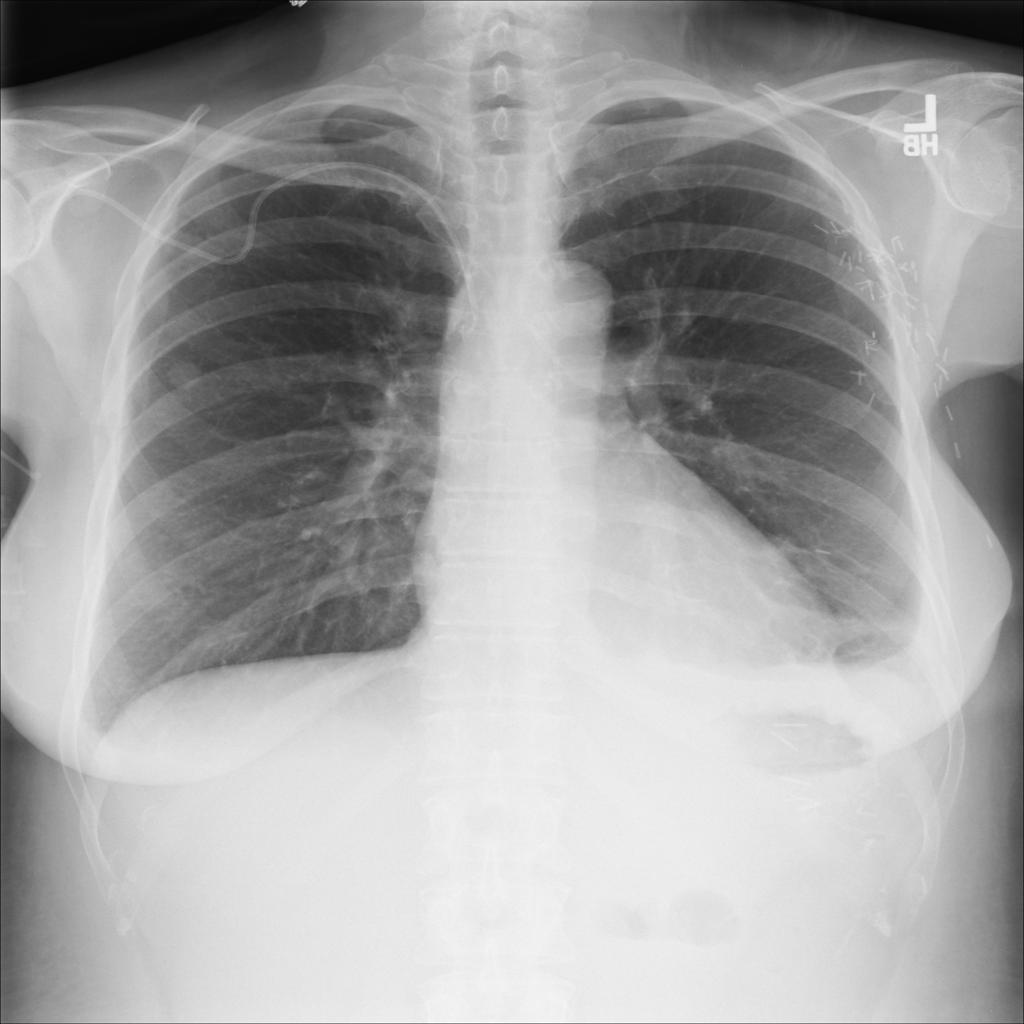nodule: (146, 344, 224, 409)
